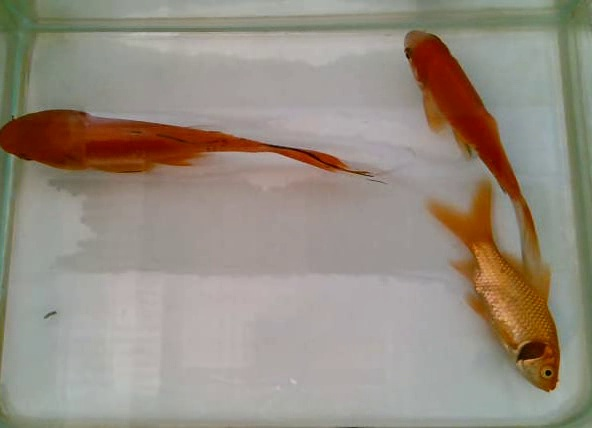alive_fish: (398, 24, 556, 291), (1, 101, 394, 202)
dead_fish: (419, 174, 569, 399)
